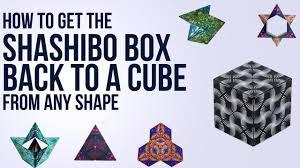cube: (213, 61, 292, 146)
